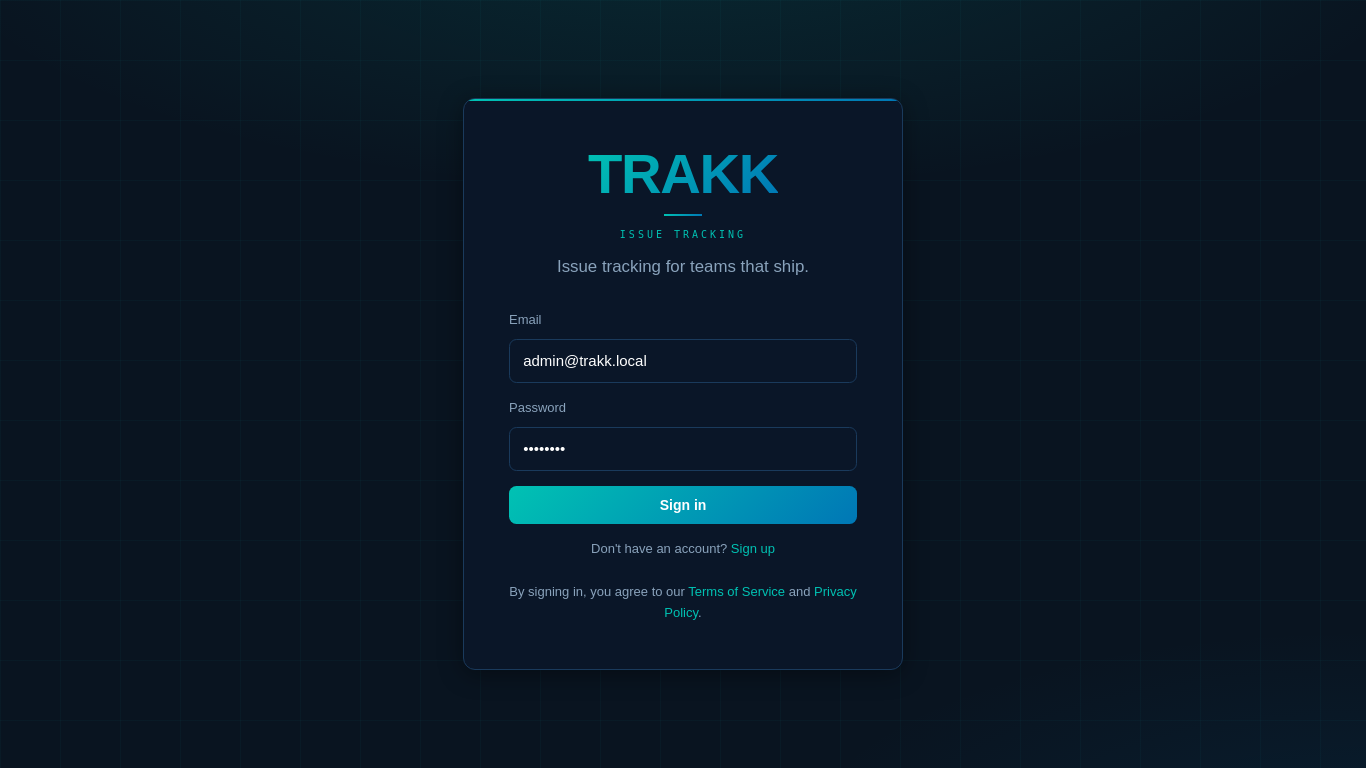
Test: LoginPage — email/password form › shows a loading state and disables the submit button while submitting
The image size is (1366, 768).
Replace the text in the field labelled "Email" with "alice@test.com" at x=683, y=361, box [509,338,857,383]
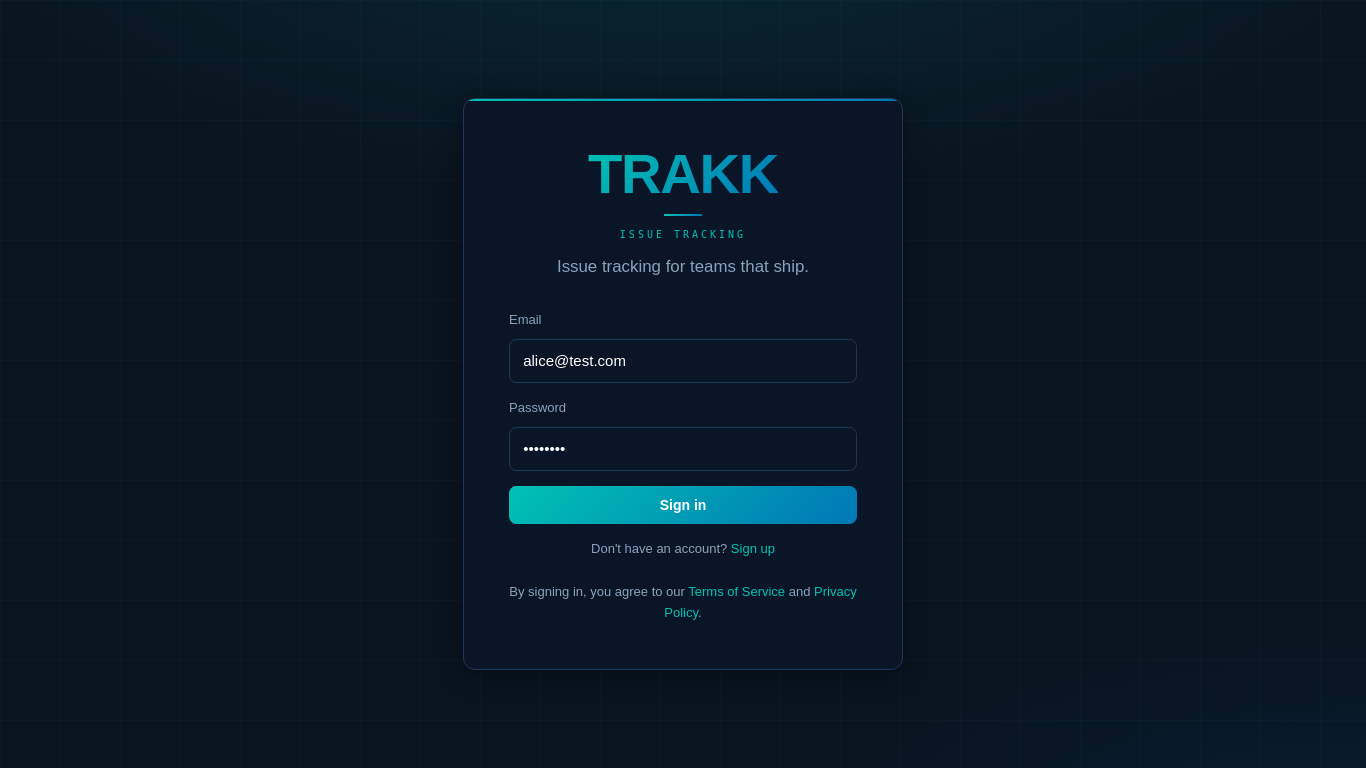
Type "password123" into the password field labelled "Password" at x=683, y=449, box [509,427,857,471]
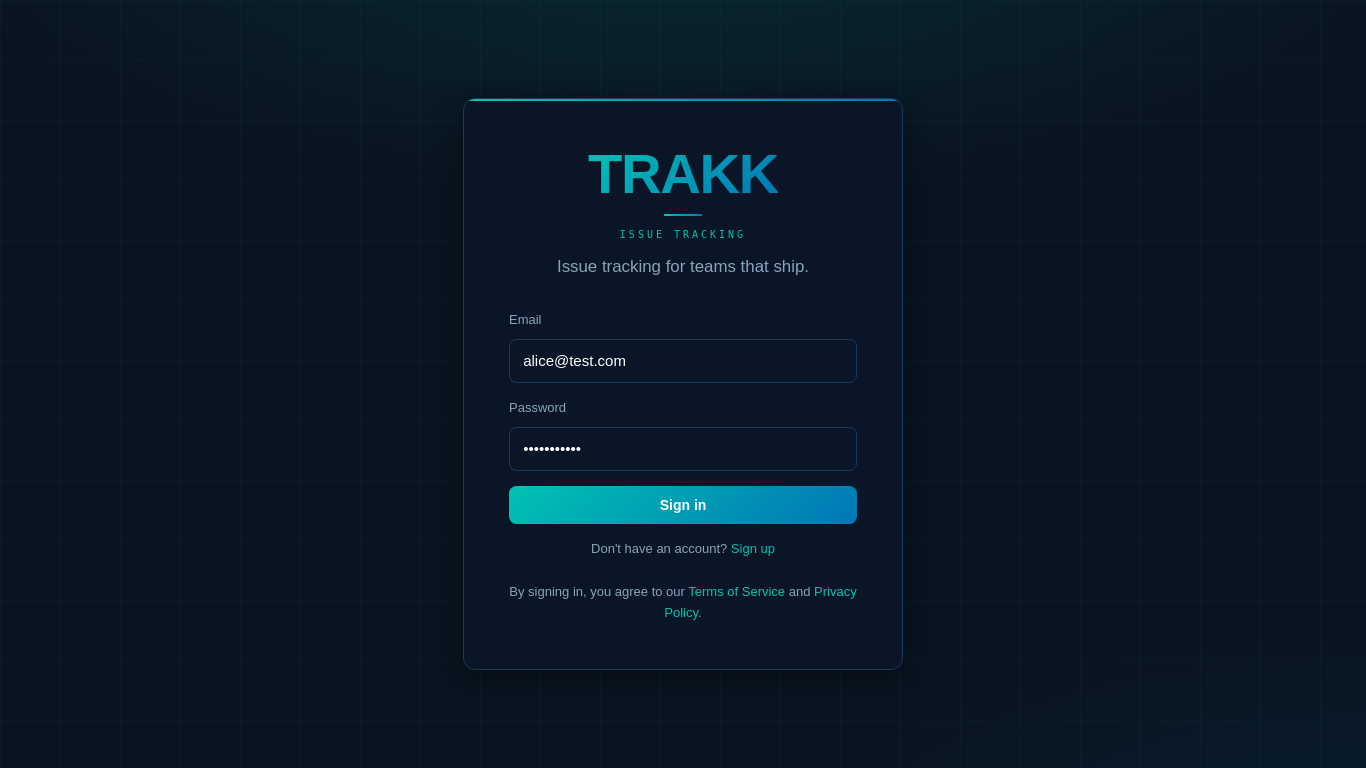
Click the button "Sign in" at x=683, y=505, box [509,486,857,524]
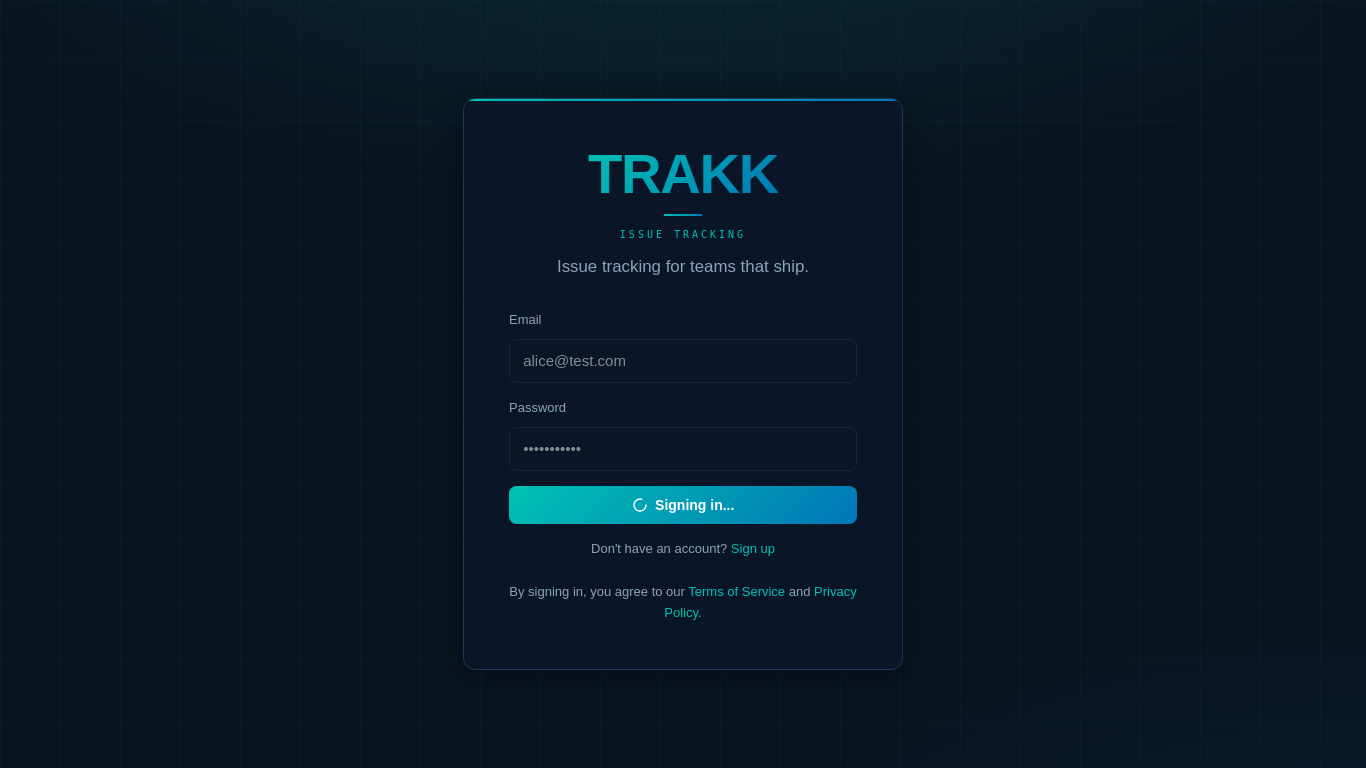
Expected: the button "Signing in..." is disabled, [509,486,857,524]
